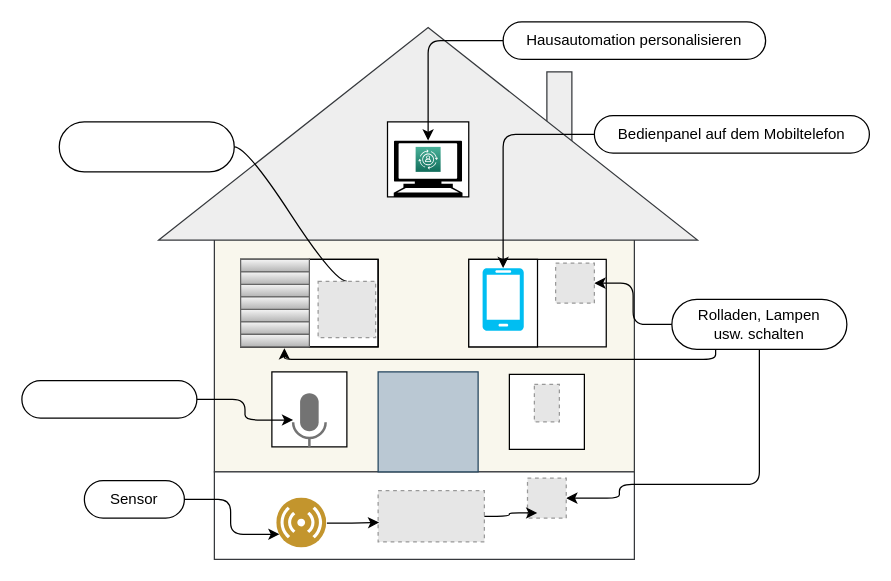
This 891x581 diagram has some shape labels left out. Grey dashed boxes stand in for pictures. The centre of each missing label's shape, as x and y in pixels:
"Sprach Steuerung" belongs at (109,398).
"Touch-Bedienung, Temperatursensor" belongs at (146,146).
